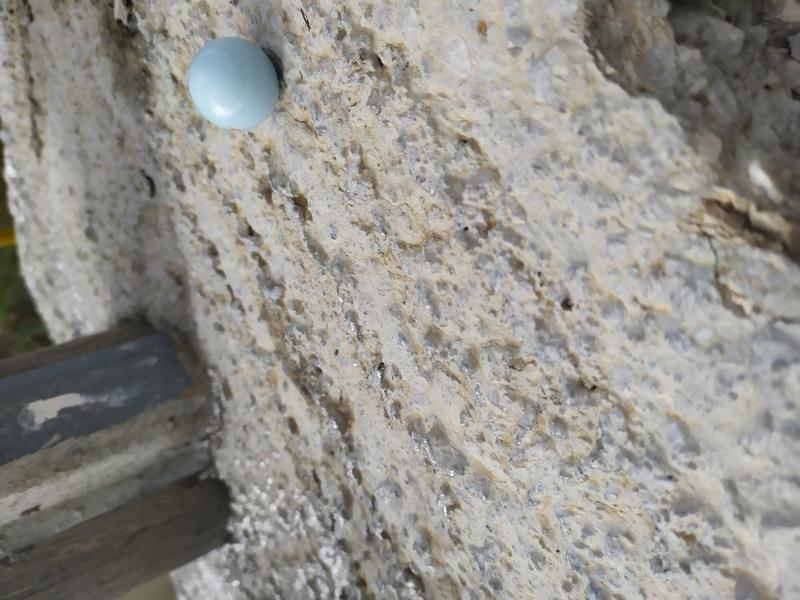Warning: (185, 34, 284, 132)
